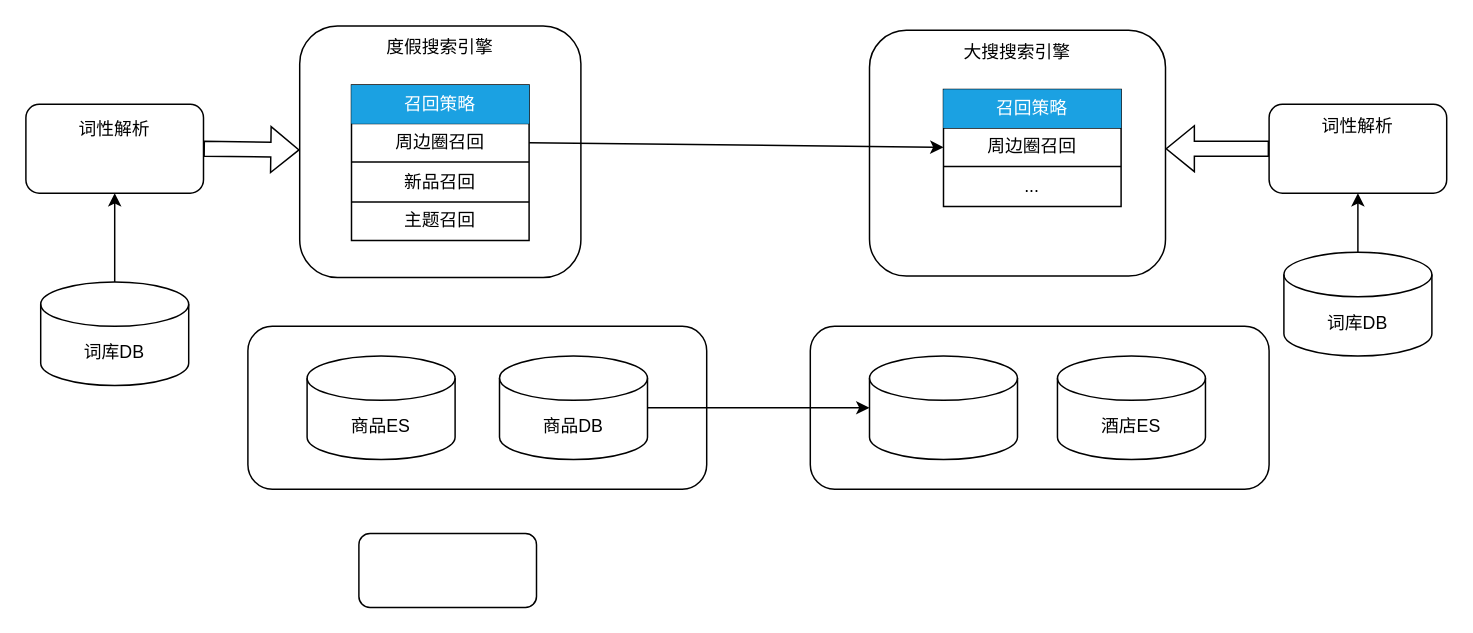
Some shapes in this 1473 by 633 pixel diagram are drawn without their labels. Here are the shapes that lost their labels. From the top down, the box of each, then its label:
(868, 354, 1018, 460): 度假ES
(357, 532, 536, 608): 索引Job
